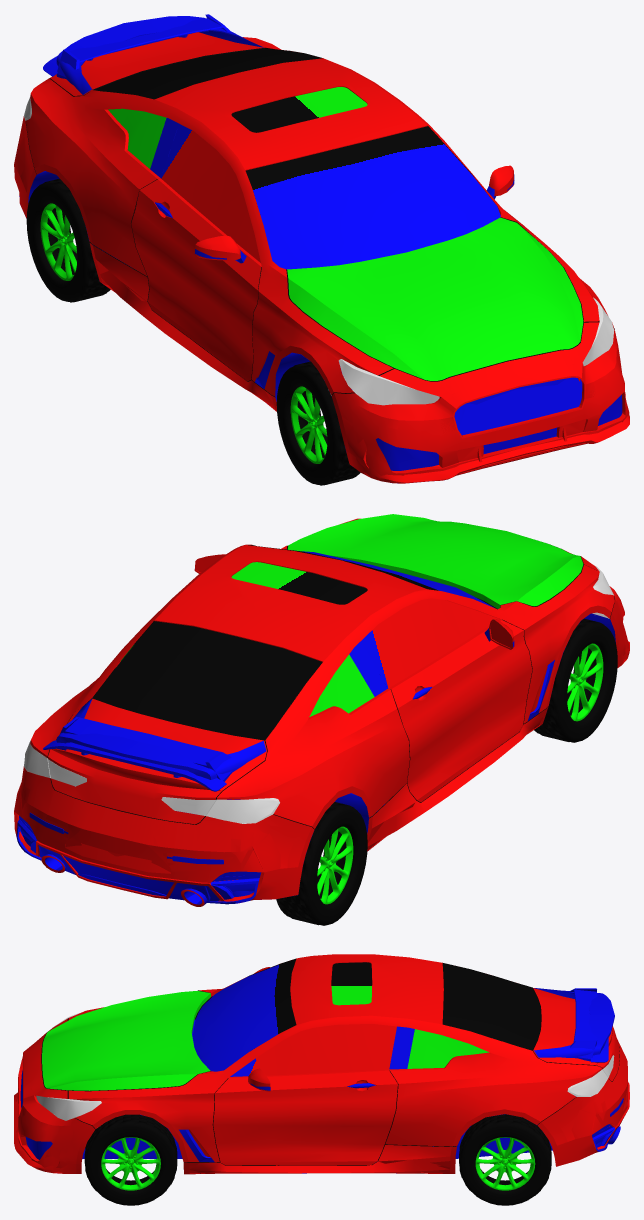
Rendered from coupe-sport-lod0.glb.
The picture shows the model from 3 angles, top to bottom: view 1: azimuth 30°, elevation 25°; view 2: azimuth 150°, elevation 25°; view 3: azimuth 270°, elevation 25°; orthographic projection. The views are drawn at different scales.
Visible parts, largest first — view 1: body, glass_a, bumper_front_b, door_r_front, bumper_front_c, Wheel.003, Wheel.002, glass_door_r, glass_c, skirt_a, spoiler_a, spoiler_b (+3 smaller); view 2: body, glass_c, door_r_front, bumper_rear_a, bumper_rear_b, bumper_rear_c, Wheel.002, Wheel.003, glass_door_r, spoiler_a, skirt_a, spoiler_b (+2 smaller); view 3: body, door_l_front, glass_a, Wheel.001, Wheel, glass_c, glass_door_l, bumper_front_b, skirt_a, bumper_rear_c, bumper_rear_b, spoiler_a (+6 smaller).
Boxes of the visible parts, bbox=[...] form: body: bbox=[19, 32, 614, 483]; glass_a: bbox=[245, 126, 500, 269]; bumper_front_b: bbox=[332, 322, 629, 480]; door_r_front: bbox=[131, 178, 261, 381]; bumper_front_c: bbox=[332, 342, 629, 483]; Wheel.003: bbox=[276, 361, 360, 485]; Wheel.002: bbox=[26, 178, 110, 302]; glass_door_r: bbox=[161, 123, 260, 262]; glass_c: bbox=[94, 48, 320, 99]; skirt_a: bbox=[89, 242, 276, 409]; spoiler_a: bbox=[56, 16, 263, 94]; spoiler_b: bbox=[56, 14, 231, 78]; body: bbox=[24, 514, 615, 906]; glass_c: bbox=[92, 621, 322, 740]; door_r_front: bbox=[388, 619, 532, 802]; bumper_rear_a: bbox=[14, 777, 312, 903]; bumper_rear_b: bbox=[14, 767, 311, 904]; bumper_rear_c: bbox=[14, 769, 314, 901]; Wheel.002: bbox=[276, 802, 367, 925]; Wheel.003: bbox=[534, 618, 617, 742]; glass_door_r: bbox=[360, 598, 498, 688]; spoiler_a: bbox=[56, 699, 266, 779]; skirt_a: bbox=[367, 706, 548, 850]; spoiler_b: bbox=[60, 717, 232, 781]; body: bbox=[36, 954, 620, 1173]; door_l_front: bbox=[213, 1068, 398, 1165]; glass_a: bbox=[192, 959, 296, 1071]; Wheel.001: bbox=[459, 1114, 551, 1205]; Wheel: bbox=[84, 1114, 177, 1205]; glass_c: bbox=[442, 963, 541, 1050]; glass_door_l: bbox=[230, 1024, 396, 1076]; bumper_front_b: bbox=[18, 1018, 95, 1172]; skirt_a: bbox=[183, 1146, 456, 1173]; bumper_rear_c: bbox=[537, 1042, 629, 1166]; bumper_rear_b: bbox=[537, 1039, 627, 1161]; spoiler_a: bbox=[534, 988, 614, 1058].
Bounding box in the file's own units: 2.04 × 1.42 × 4.57.
8 materials, 5 textured.
